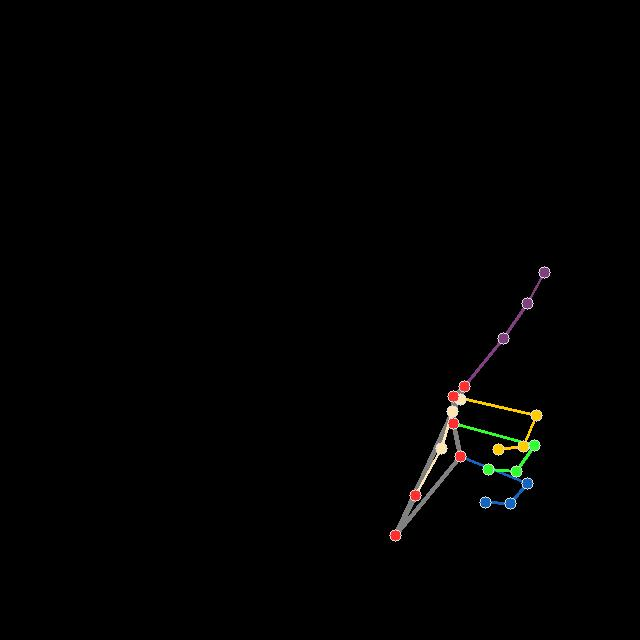gun: (389, 259, 556, 544)
